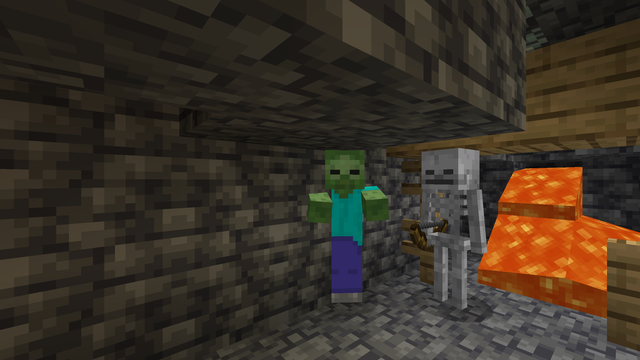squelettes: (416, 148, 482, 319)
zombies: (326, 152, 373, 313)
